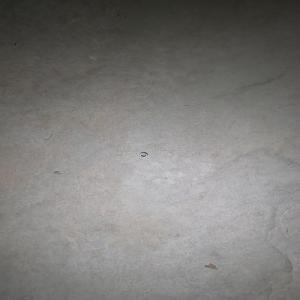Nut: (138, 152, 148, 157)
